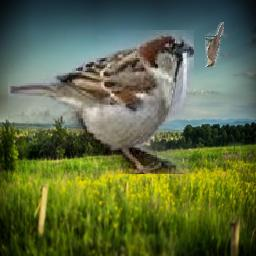Cuckoo: (206, 23, 225, 68)
Sparrow: (8, 30, 194, 174)
